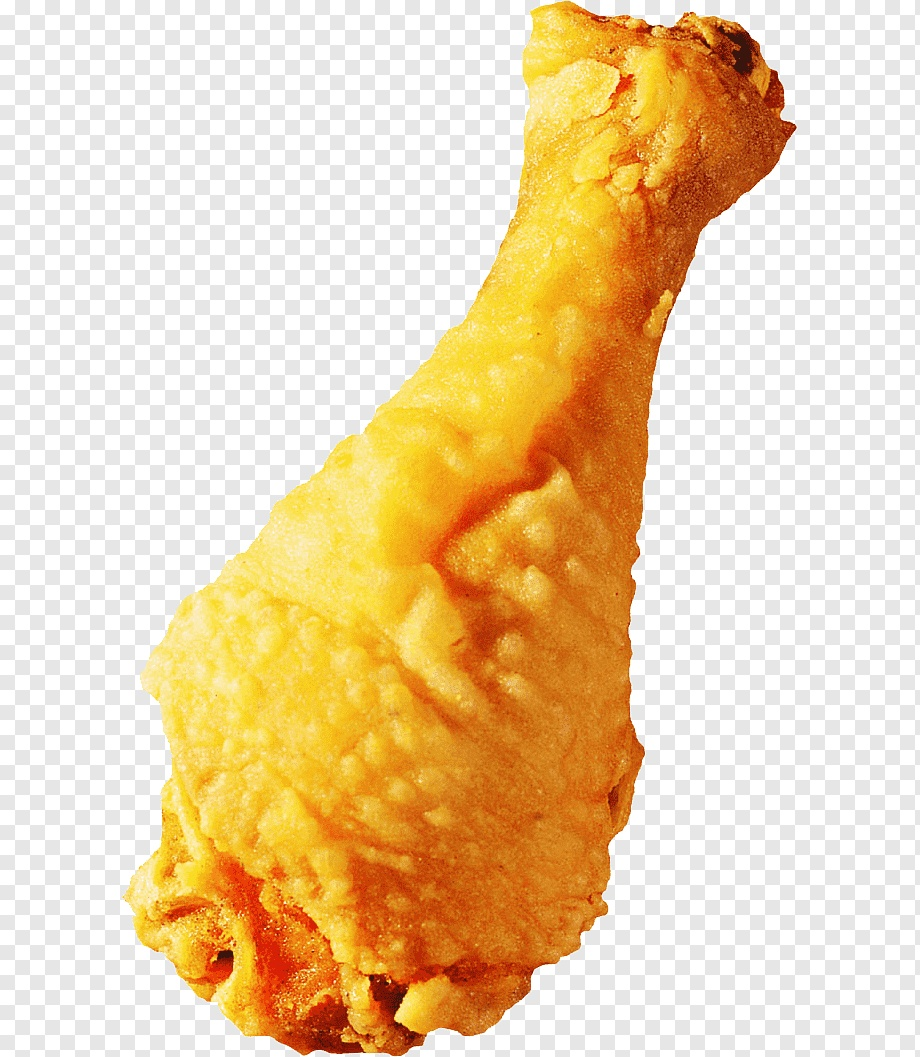ayam_goreng: (114, 1, 794, 1054)
